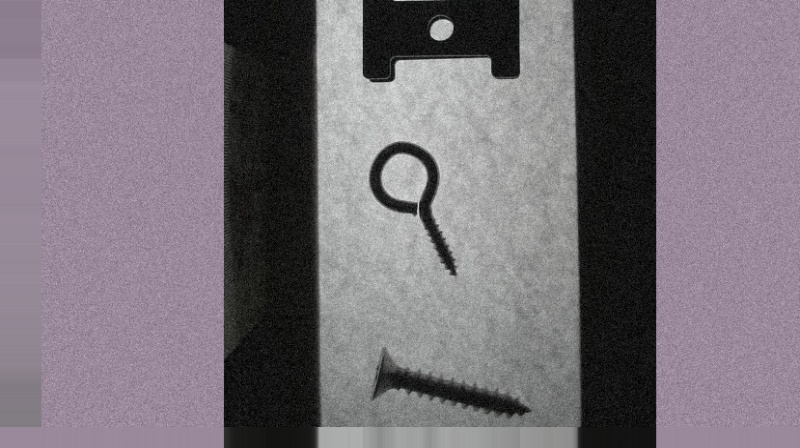O001: (367, 138, 463, 278)
O002: (359, 0, 522, 83)
S001: (369, 342, 535, 420)
